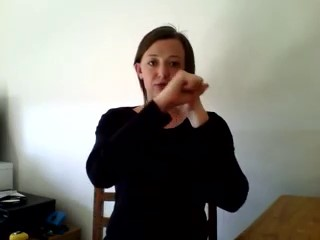G: (169, 69, 215, 108)
